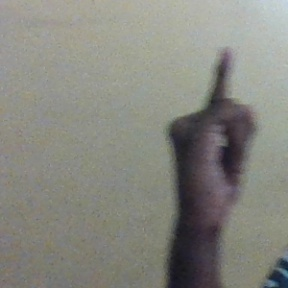I: (166, 47, 262, 222)
